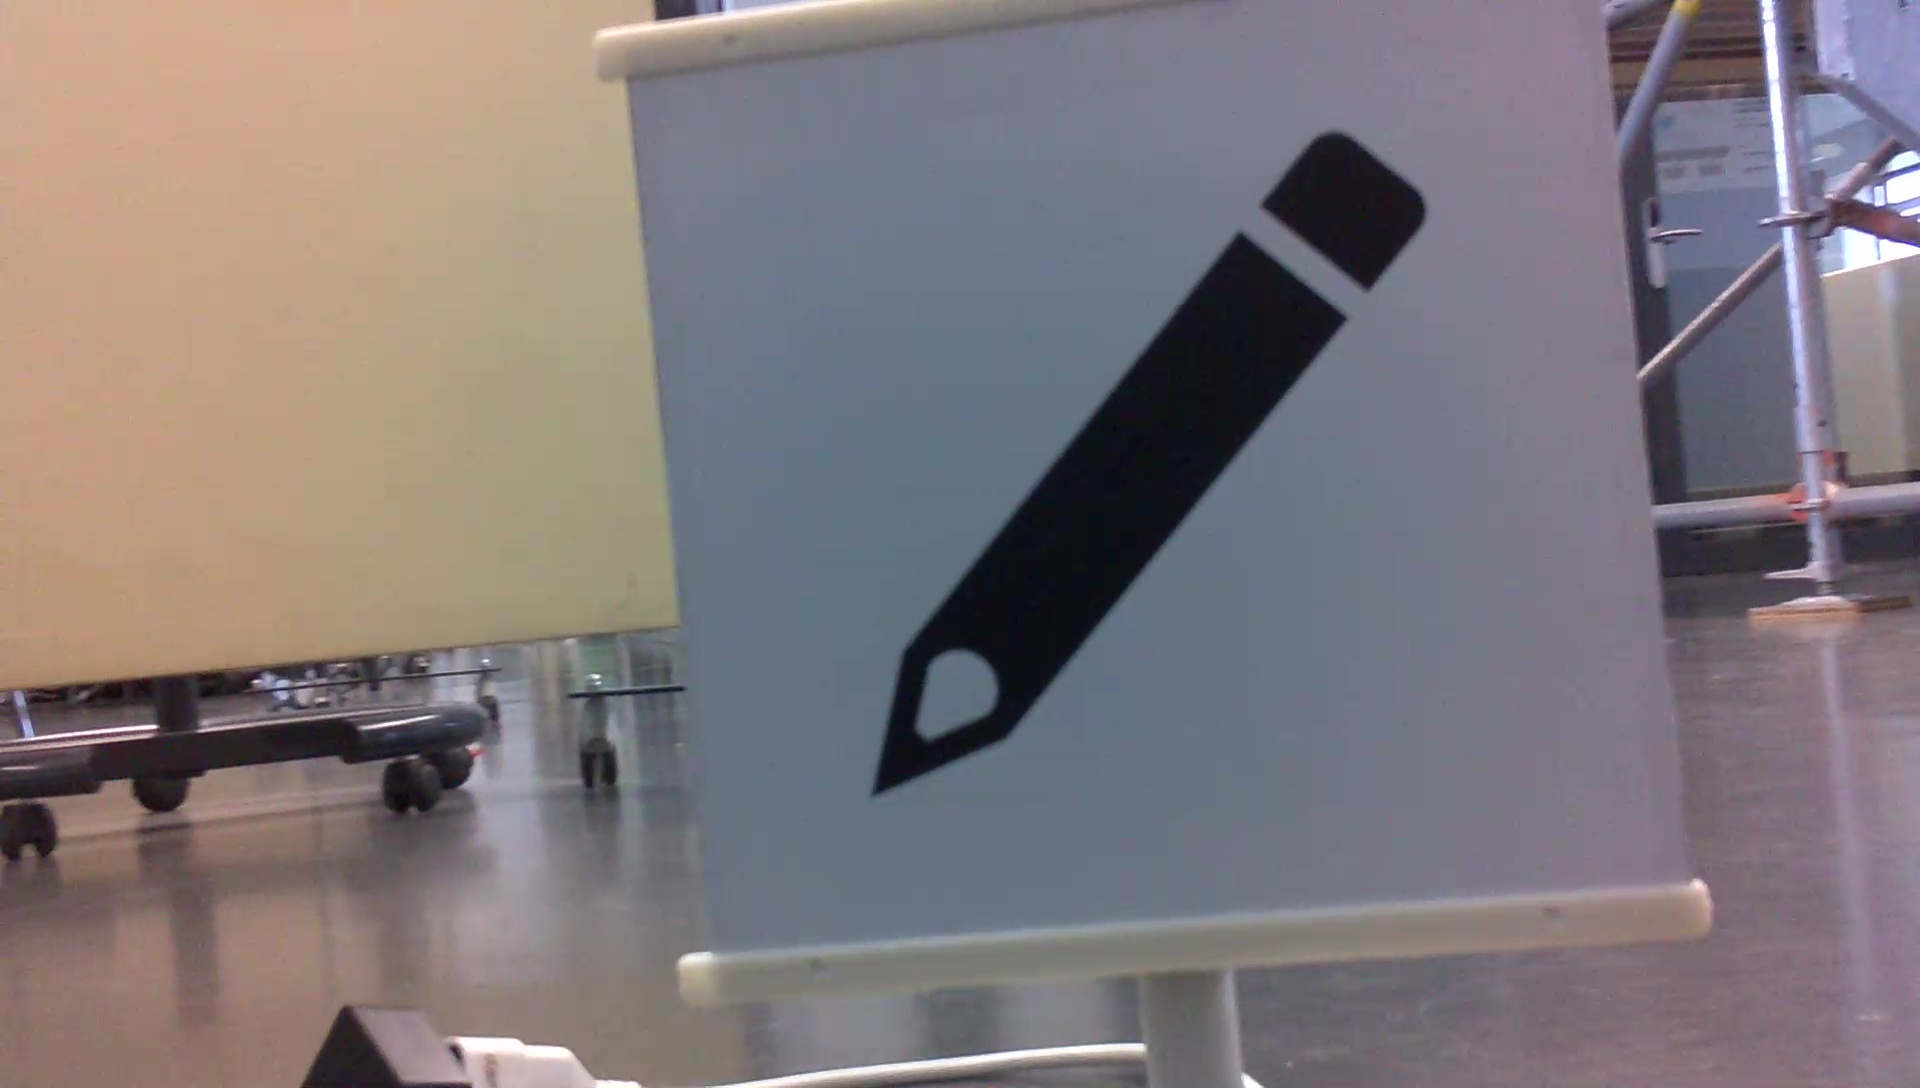pencil: (837, 113, 1440, 816)
